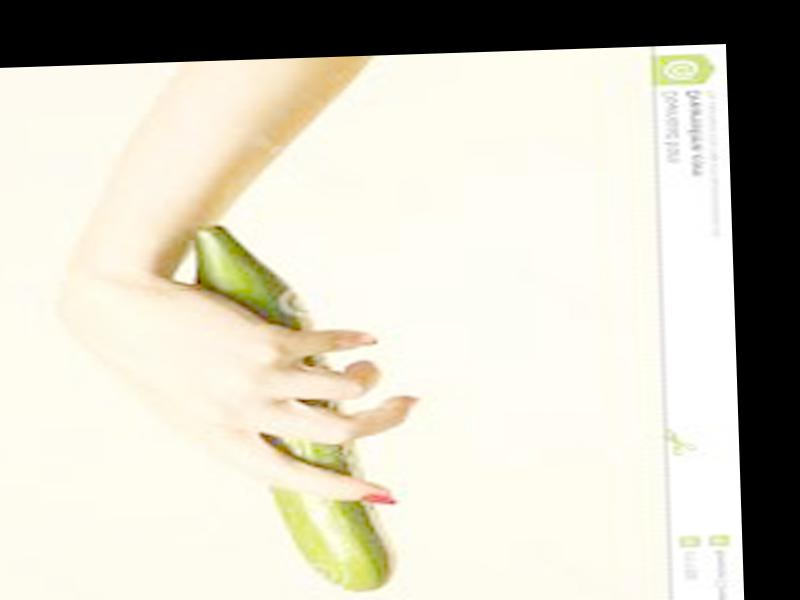Cucumber: (194, 215, 398, 596)
